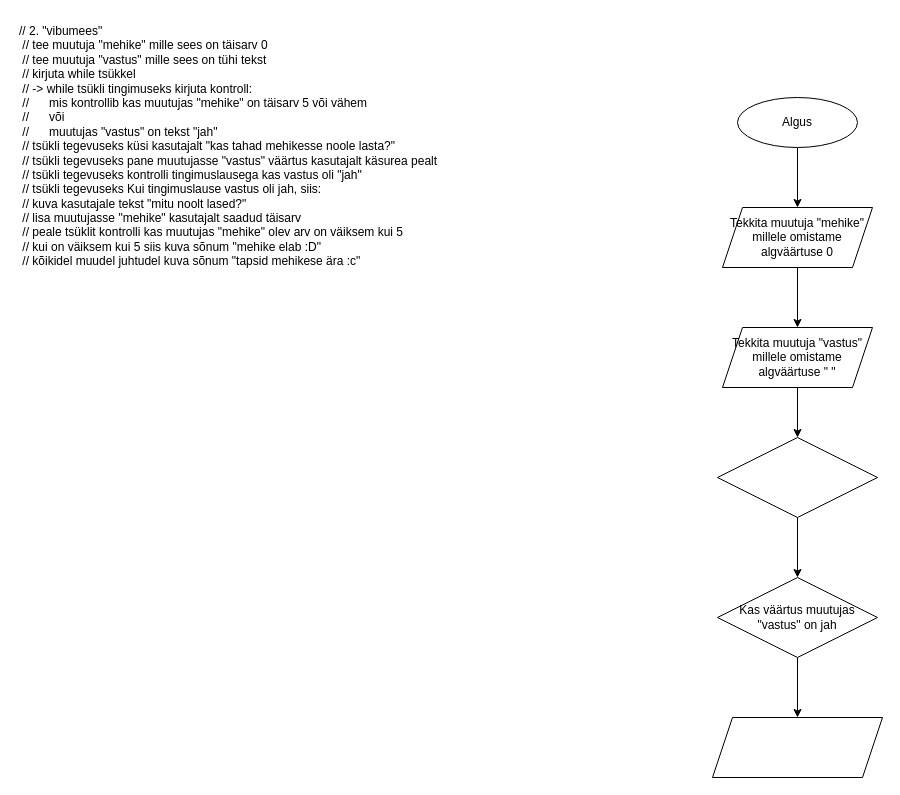
Some shapes in this 900 by 795 pixel diagram are drawn without their labels. The box of each missing label's shape, as (x1, y1, x2, y2) in pixels:
Kas väärtus muutujas "mehike" on vähem või võrdne kui 5: (716, 436, 878, 518)
Kuva kasutajale tekst "kas tahad mehikesse noole lasta?": (712, 716, 882, 778)
